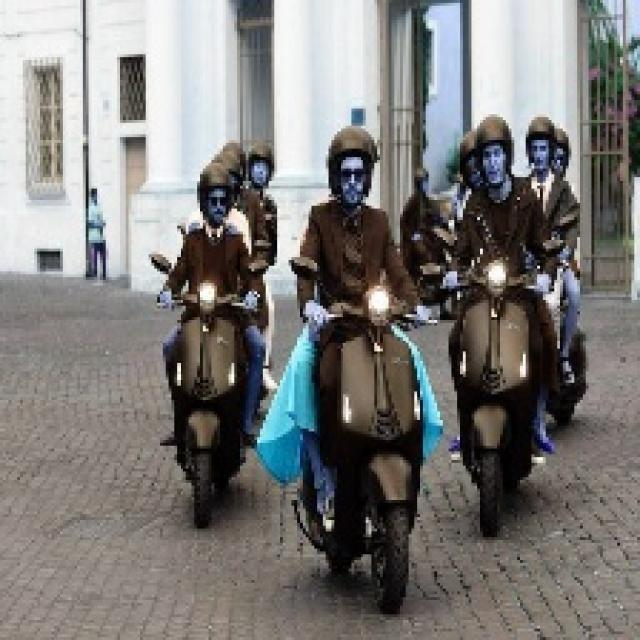bike: (312, 275, 429, 609), (444, 264, 556, 528), (173, 267, 256, 528)
